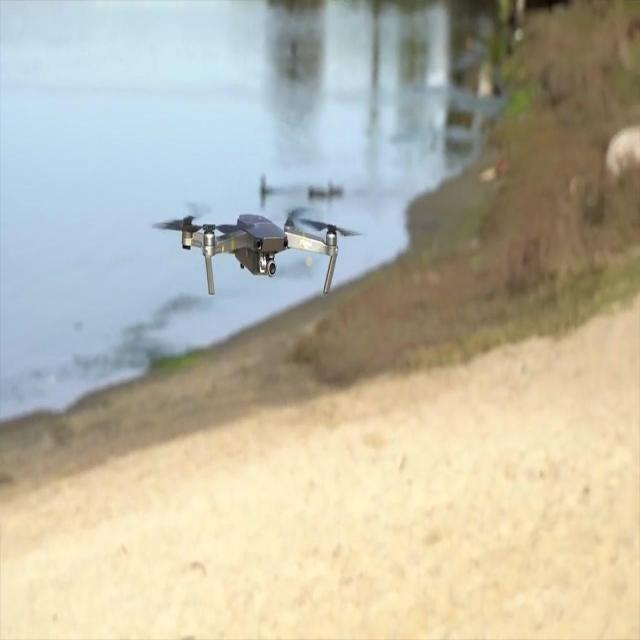UAV: (152, 206, 364, 296)
